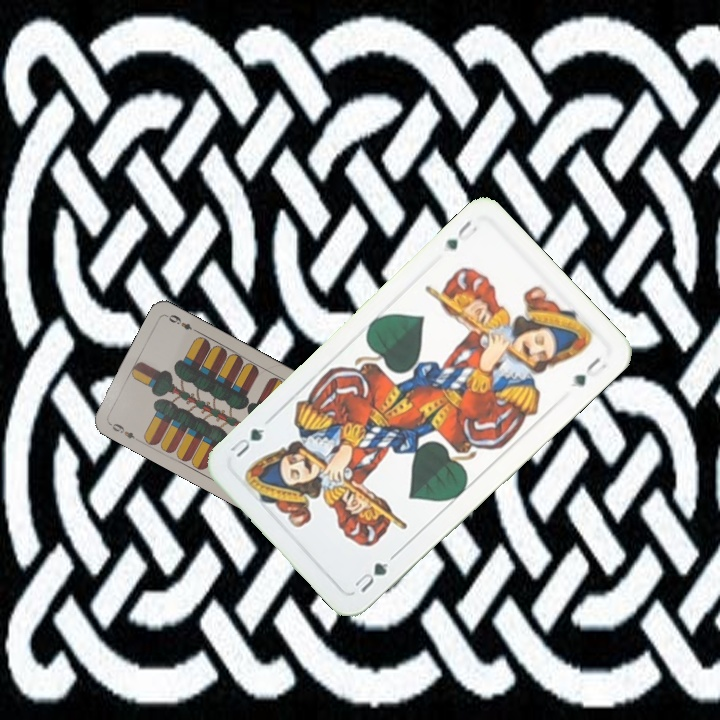E9: (105, 419, 142, 444)
GU: (350, 558, 391, 596), (440, 215, 480, 253)
